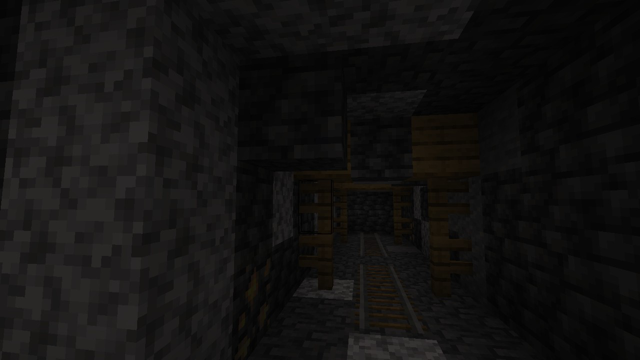gold: (234, 259, 280, 349)
